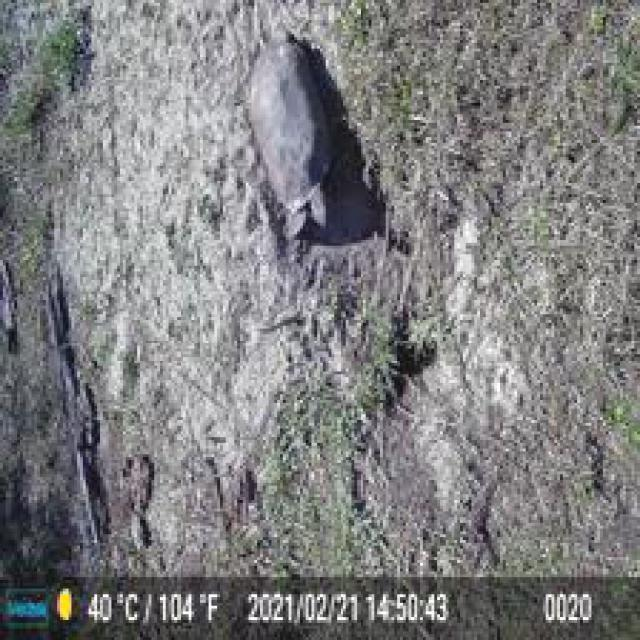tortoise: (243, 29, 349, 241)
